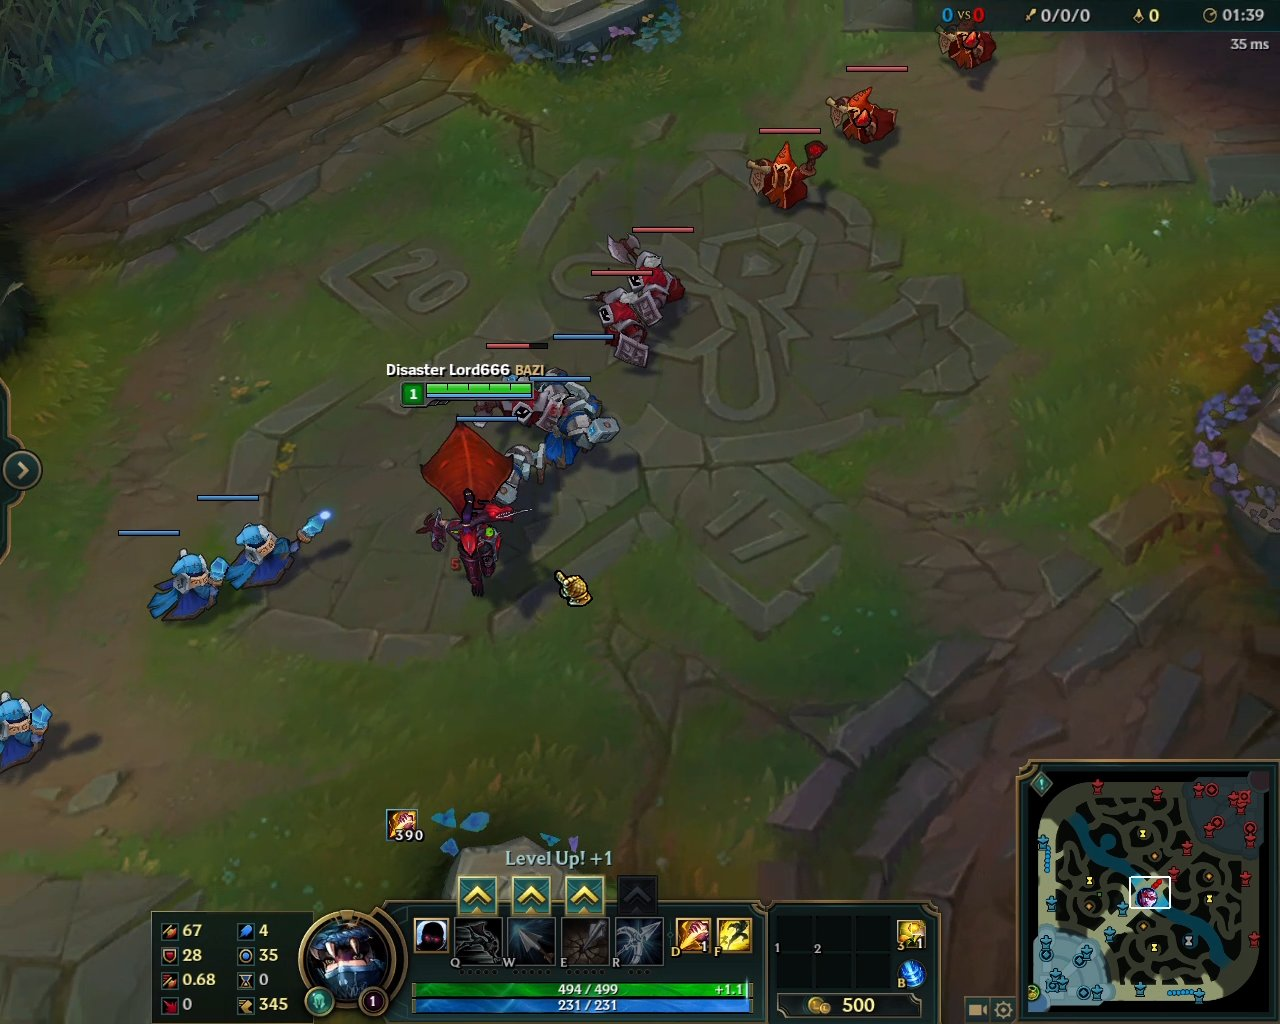EnemyMinion: (609, 223, 696, 317), (745, 127, 827, 220), (587, 269, 656, 369), (823, 66, 908, 147)
Vayne: (411, 418, 520, 602)
